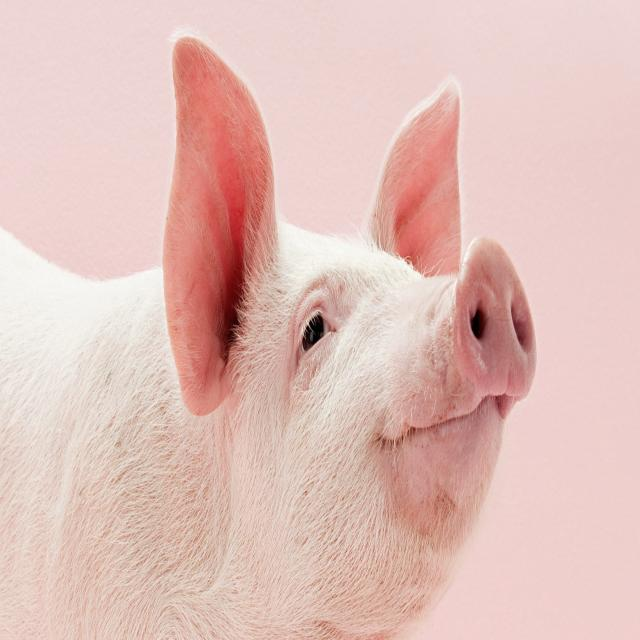pig: (0, 35, 536, 639)
